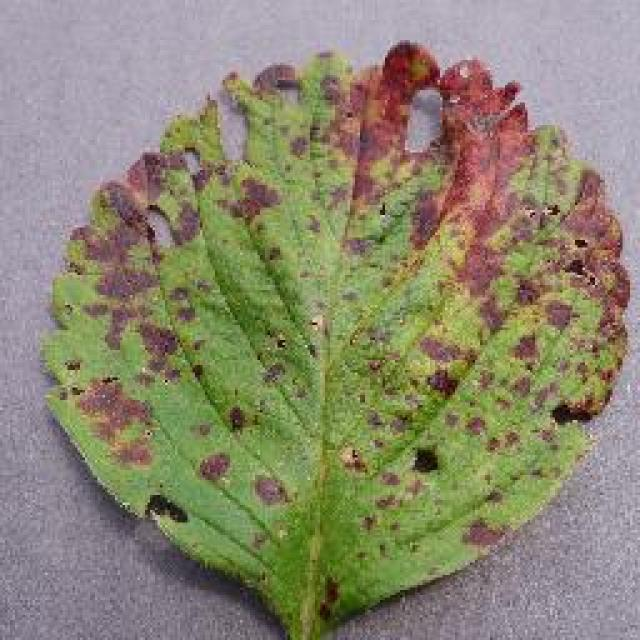Strawberry___Leaf_scorch: (25, 12, 635, 640)
